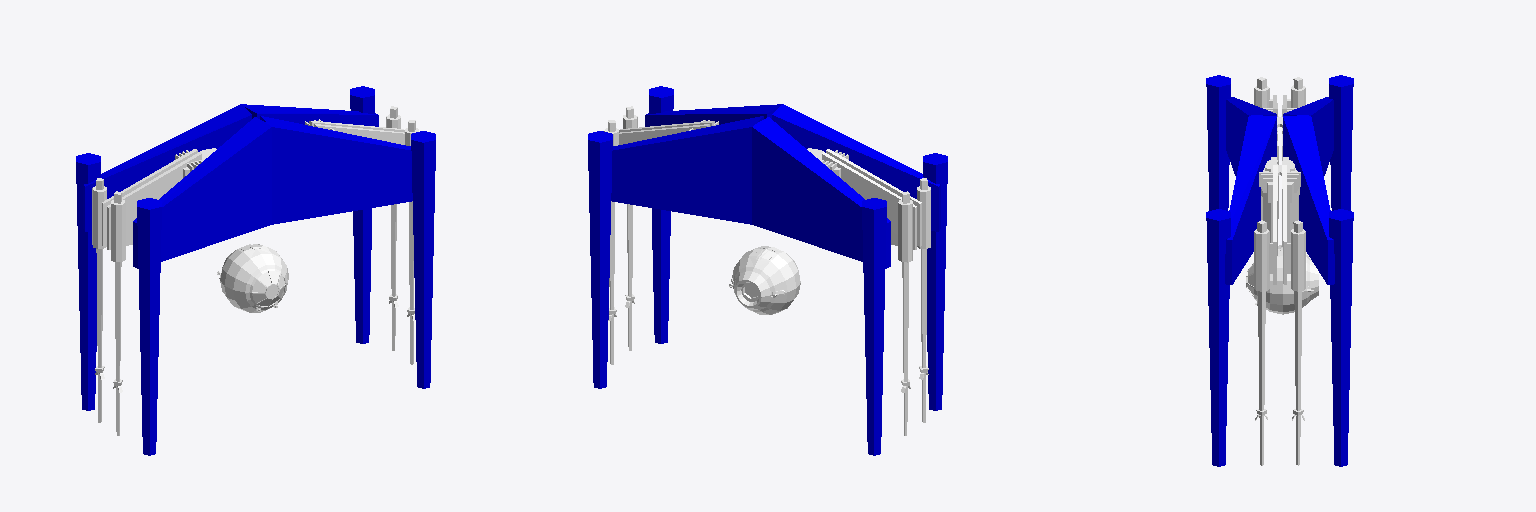
File: Underworld_Black_Sun_TIE-X.obj
3 renders of one model, left to right at view 1: azimuth 30°, elevation 25°; view 2: azimuth 150°, elevation 25°; view 3: azimuth 270°, elevation 25°, orthographic.
Parts seen in each view (by area): view 1: COL_03, COL_00, COL_01, COL_02, wing_00, TIE_Cockpit, wing_01, wing_03, wing_02, TIE_Cockpit_Glass; view 2: COL_02, COL_01, COL_00, COL_03, wing_01, TIE_Cockpit, wing_00, wing_02, wing_03; view 3: COL_03, COL_02, COL_01, COL_00, wing_03, wing_02, TIE_Cockpit, wing_00, wing_01.
Part boxes in pixels (left/top/right/bottom): COL_03: left=260, top=116, right=435, bottom=388; COL_00: left=133, top=117, right=271, bottom=455; COL_01: left=76, top=104, right=251, bottom=410; COL_02: left=241, top=86, right=378, bottom=343; wing_00: left=107, top=152, right=209, bottom=435; TIE_Cockpit: left=218, top=244, right=288, bottom=312; wing_01: left=92, top=148, right=216, bottom=422; wing_03: left=314, top=120, right=418, bottom=364; wing_02: left=305, top=106, right=404, bottom=350; TIE_Cockpit_Glass: left=238, top=244, right=284, bottom=305; COL_02: left=588, top=116, right=763, bottom=388; COL_01: left=752, top=117, right=890, bottom=455; COL_00: left=772, top=104, right=947, bottom=410; COL_03: left=645, top=86, right=782, bottom=343; wing_01: left=814, top=152, right=916, bottom=435; TIE_Cockpit: left=731, top=246, right=800, bottom=314; wing_00: left=807, top=148, right=930, bottom=422; wing_02: left=604, top=120, right=709, bottom=364; wing_03: left=619, top=106, right=718, bottom=350; COL_03: left=1206, top=115, right=1276, bottom=466; COL_02: left=1283, top=115, right=1353, bottom=466; COL_01: left=1283, top=75, right=1353, bottom=210; COL_00: left=1206, top=75, right=1276, bottom=210; wing_03: left=1254, top=157, right=1281, bottom=465; wing_02: left=1278, top=157, right=1305, bottom=465; TIE_Cockpit: left=1246, top=245, right=1318, bottom=314; wing_00: left=1254, top=77, right=1281, bottom=160; wing_01: left=1278, top=77, right=1305, bottom=160.
Size of the model in its own units: 4.99 by 4.38 by 2.07.